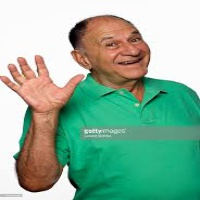ring: (5, 61, 25, 86)
